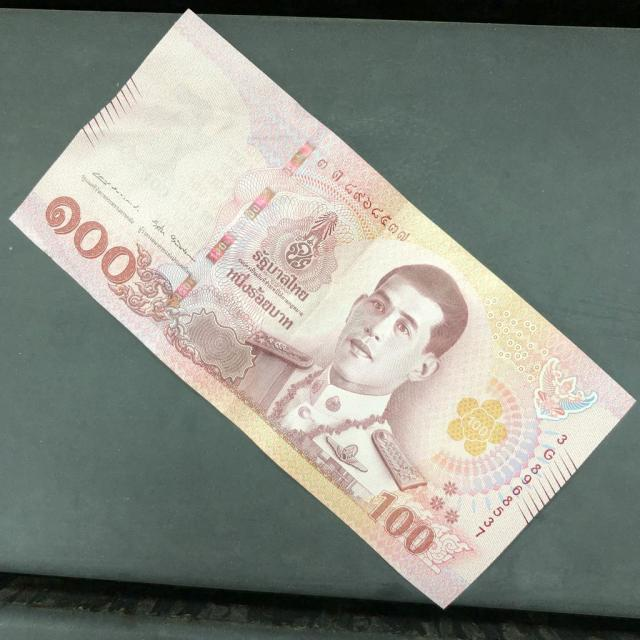THAI100: (11, 11, 634, 606)
